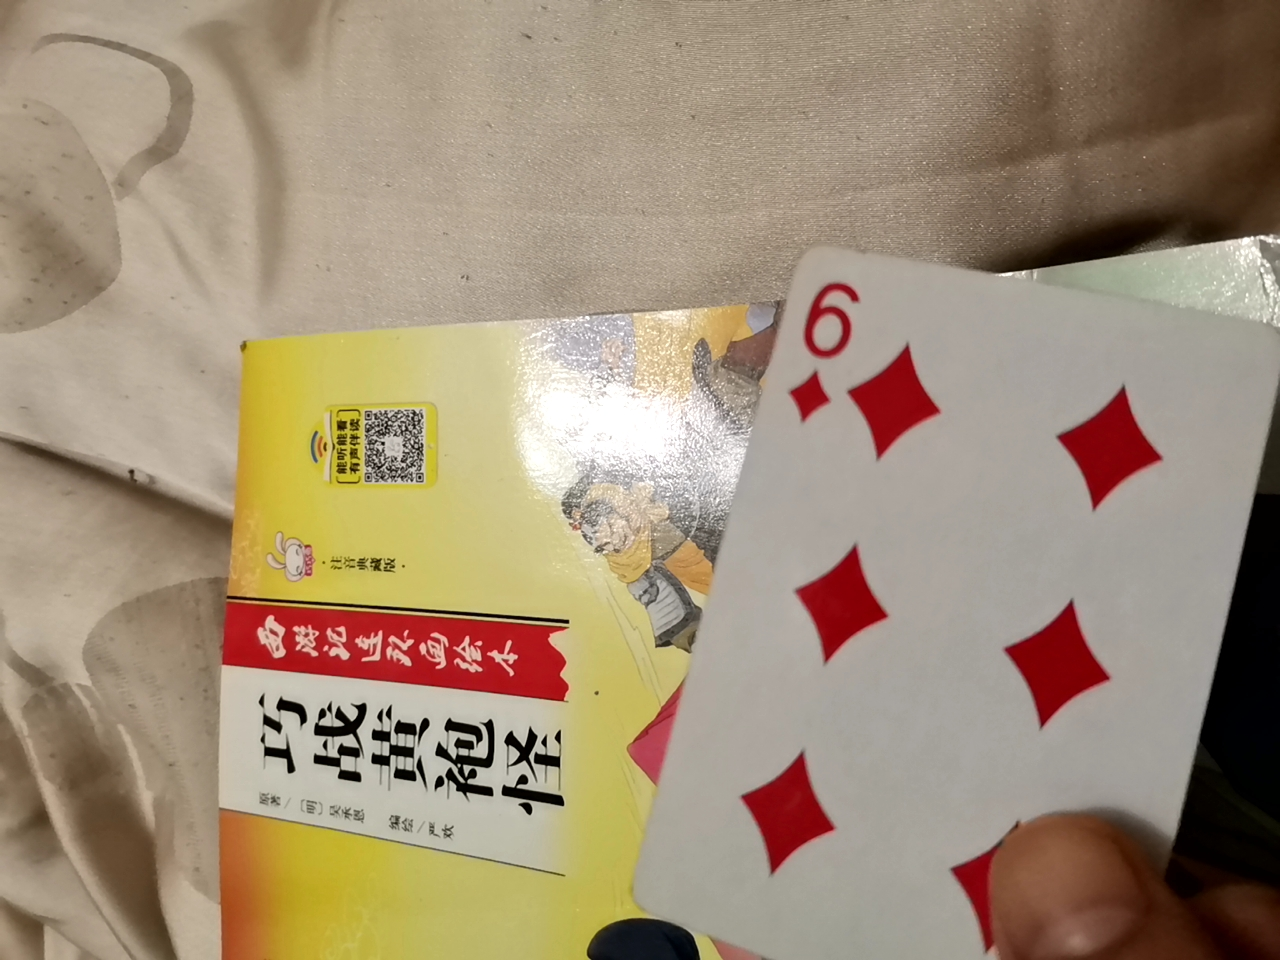fk 6: (648, 255, 1252, 948)
